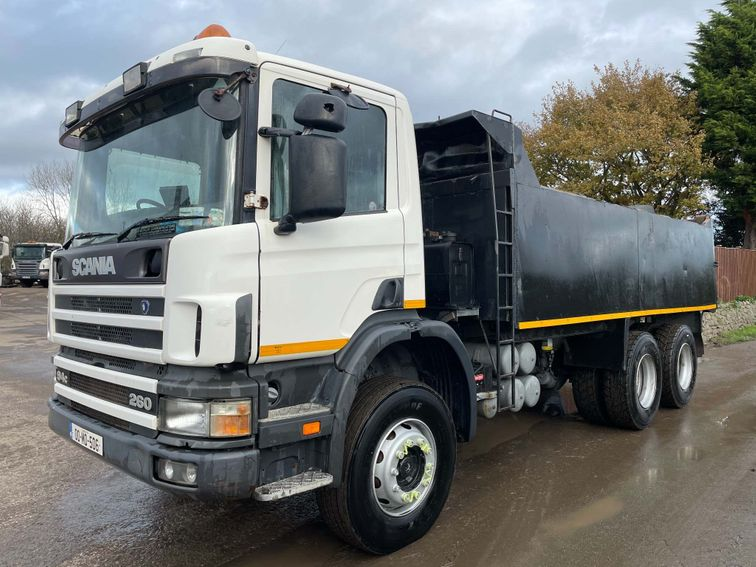Semi: (45, 24, 715, 554)
